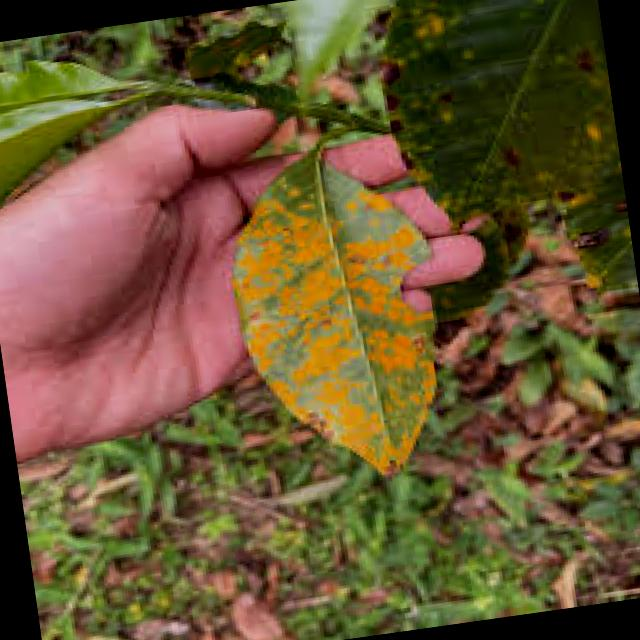leaf_rust: (234, 153, 434, 472)
